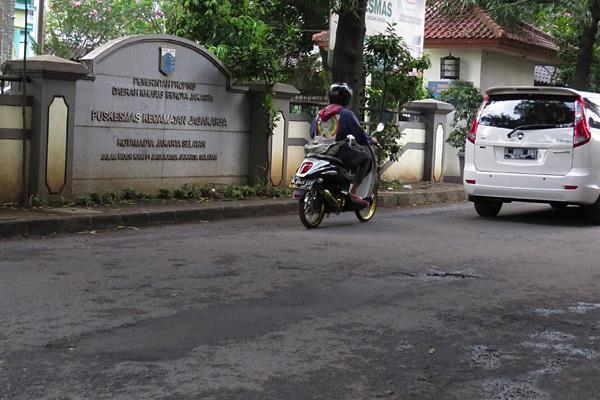Pothole: (397, 264, 499, 298)
